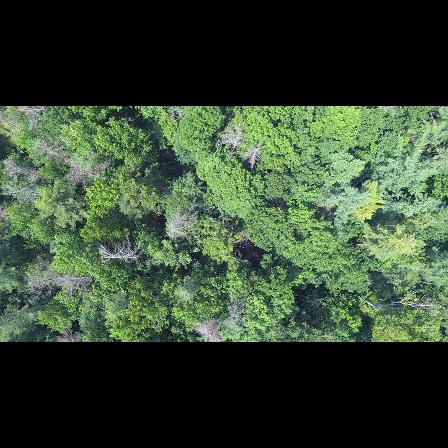Dead: (364, 282, 434, 317), (57, 158, 122, 189), (29, 266, 95, 296), (97, 237, 148, 266), (3, 158, 52, 182), (163, 207, 197, 240), (213, 120, 243, 157), (11, 108, 53, 128), (0, 182, 46, 200), (246, 136, 270, 169), (192, 319, 222, 341), (223, 300, 245, 324)
